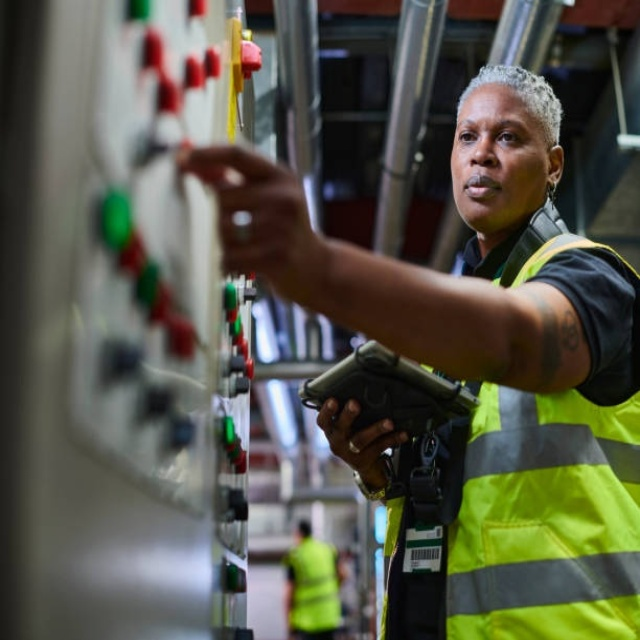Sin_gafas: (456, 106, 531, 151)
Sin_guantes: (179, 140, 319, 298), (316, 395, 410, 497)
Sin_mascara: (455, 169, 506, 215)
